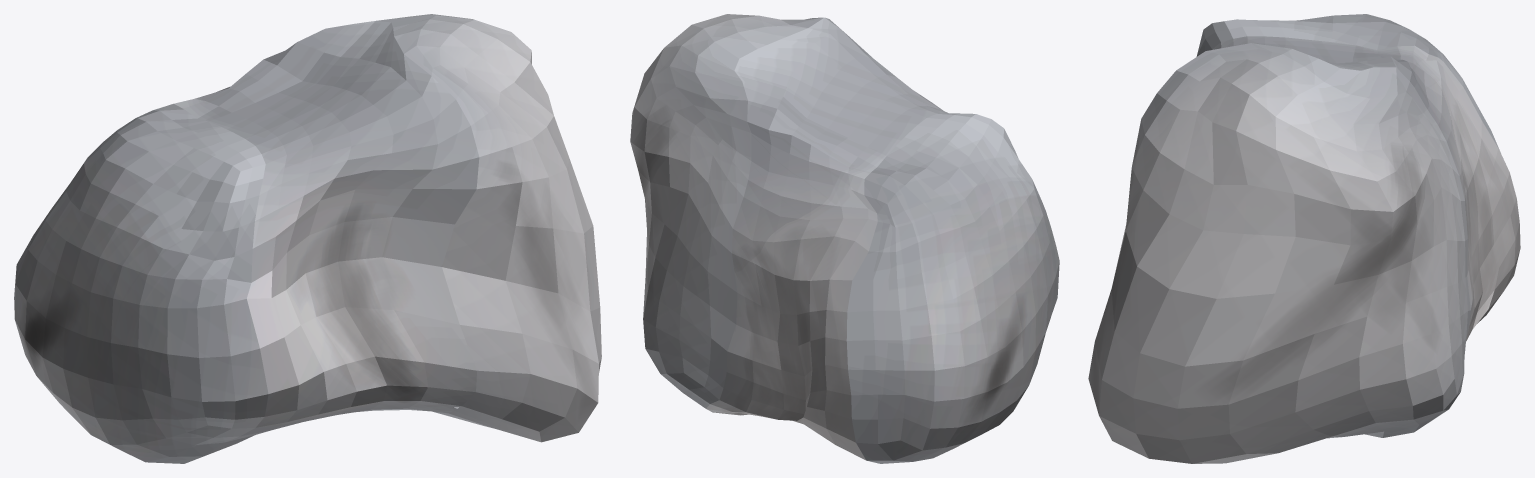
The model's file is rock1.fbx.
The picture shows the model from 3 angles, left to right: view 1: azimuth 30°, elevation 25°; view 2: azimuth 150°, elevation 25°; view 3: azimuth 270°, elevation 25°; orthographic projection. The views are drawn at different scales.
Visible parts, largest first — view 1: Cube; view 2: Cube; view 3: Cube.
Boxes of the visible parts, <box> form: Cube: <box>14,14,601,463</box>; Cube: <box>630,14,1059,463</box>; Cube: <box>1088,14,1520,463</box>.
Bounding box in the file's own units: 3.04 × 2.51 × 2.53.
1 material, 1 textured.
